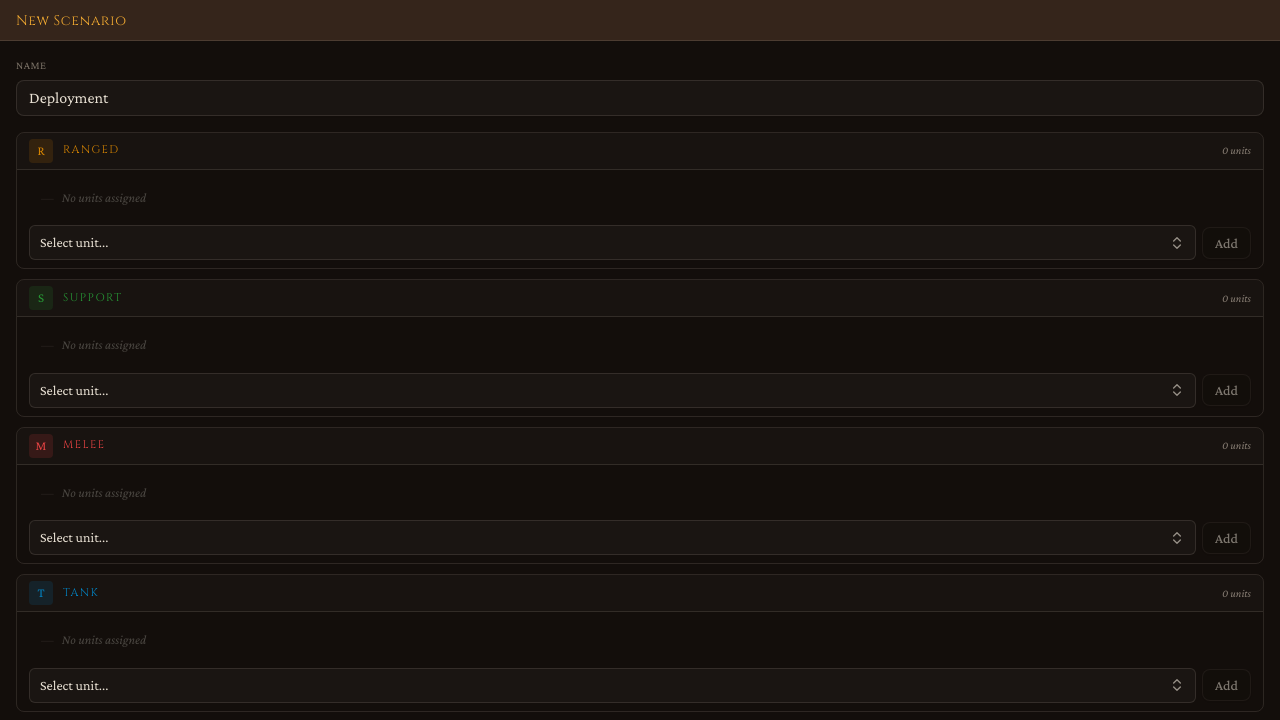
ScenarioWorkspace › only offers units whose equipped items allow the row
Click the dropdown with test id "scenario-row-tank-picker": (74,684) [29,668,1196,702]
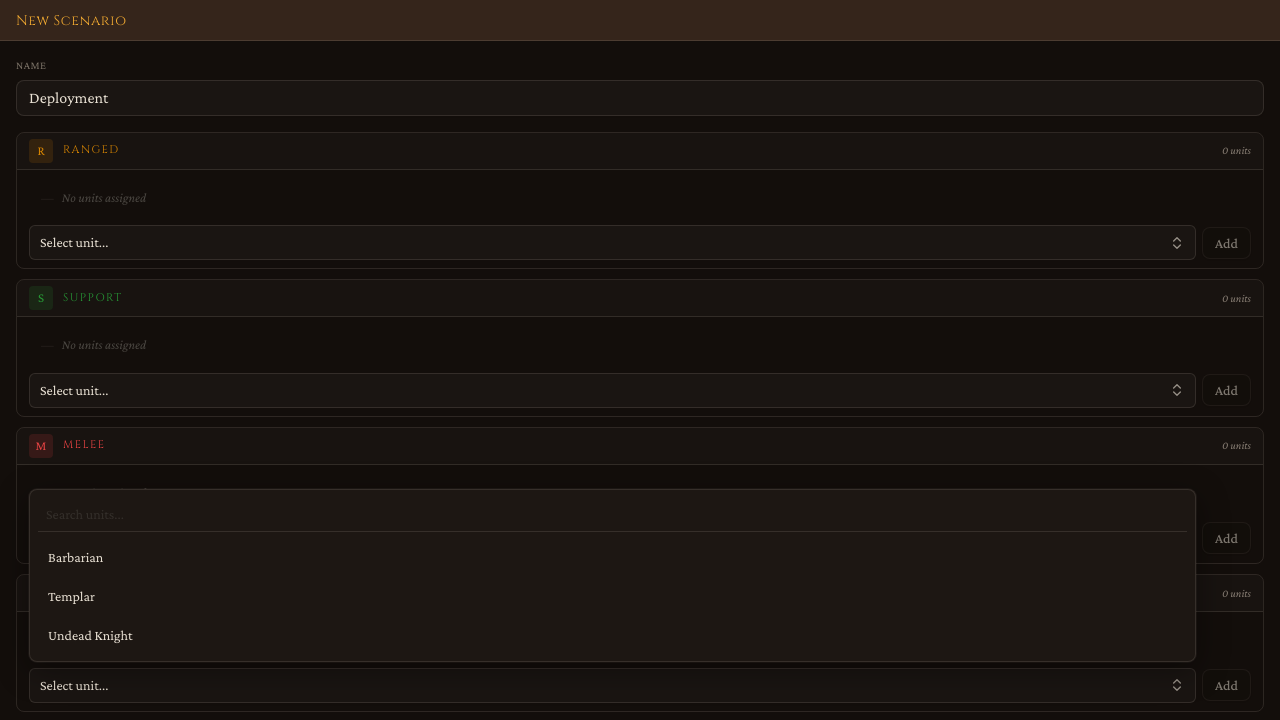
Result: the option with test id "scenario-row-tank-picker-option-u-1" is shown at [38,540,1187,575]
Result: the option with test id "scenario-row-tank-picker-option-u-5" is shown at [38,579,1187,614]
